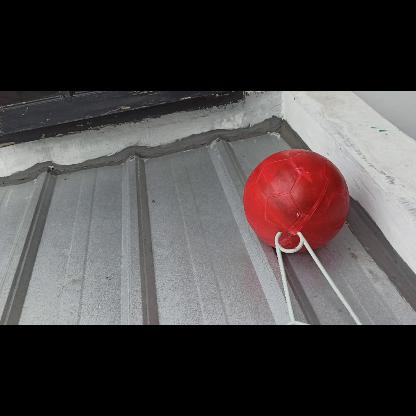red_ball: (243, 148, 349, 254)
